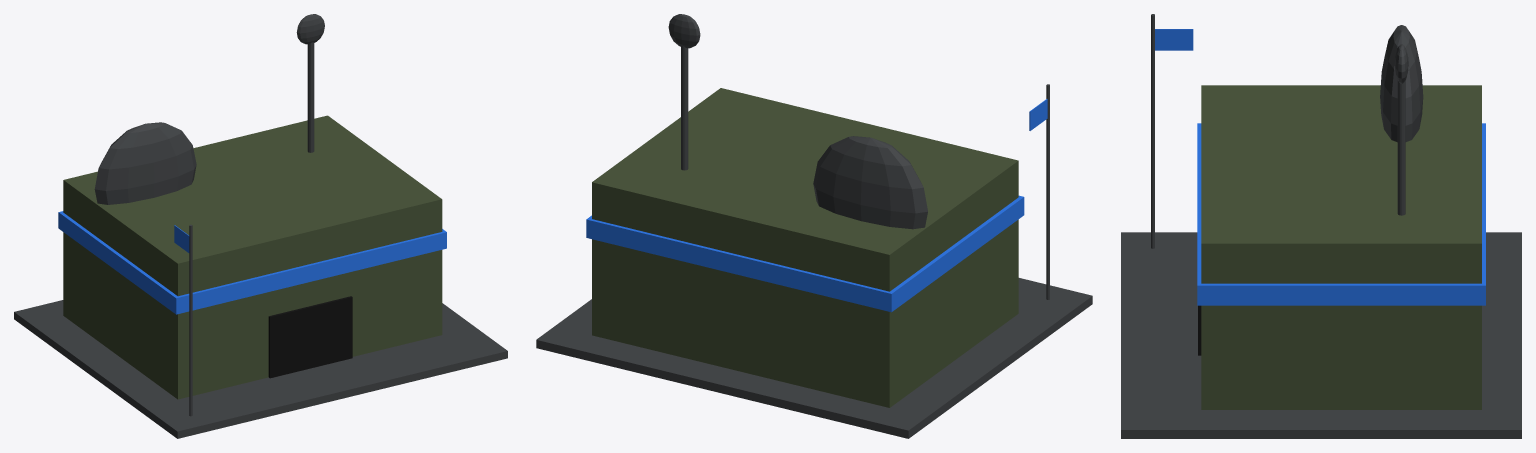
Rendered from kp_command_hq.glb.
3 renders of one model, left to right at view 1: azimuth 30°, elevation 25°; view 2: azimuth 150°, elevation 25°; view 3: azimuth 270°, elevation 25°, orthographic. The views are drawn at different scales.
Visible parts, largest first — view 1: main, base, team_band, dish_big, door, mast, flagpole, dish; view 2: main, base, team_band, dish_big, mast, dish, flagpole; view 3: main, base, team_band, dish_big, mast, flagpole, flag, dish.
Boxes of the visible parts, x1,y1,x2,y2 form: main: (63, 115, 442, 399); base: (14, 300, 507, 438); team_band: (58, 211, 446, 314); dish_big: (94, 122, 196, 204); door: (268, 296, 352, 378); mast: (307, 42, 314, 152); flagpole: (189, 224, 192, 416); dish: (296, 14, 324, 44); main: (592, 88, 1018, 407); base: (536, 278, 1092, 438); team_band: (586, 195, 1024, 312); dish_big: (813, 136, 927, 229); mast: (681, 46, 688, 170); dish: (668, 14, 700, 48); flagpole: (1046, 84, 1049, 299); main: (1201, 85, 1481, 409); base: (1121, 232, 1521, 438); team_band: (1197, 123, 1485, 305); dish_big: (1380, 25, 1423, 142); mast: (1397, 80, 1405, 215); flagpole: (1151, 14, 1154, 248); flag: (1155, 29, 1193, 50); dish: (1394, 44, 1408, 83).
Size of the model in its own units: 14 by 11.35 by 12.
